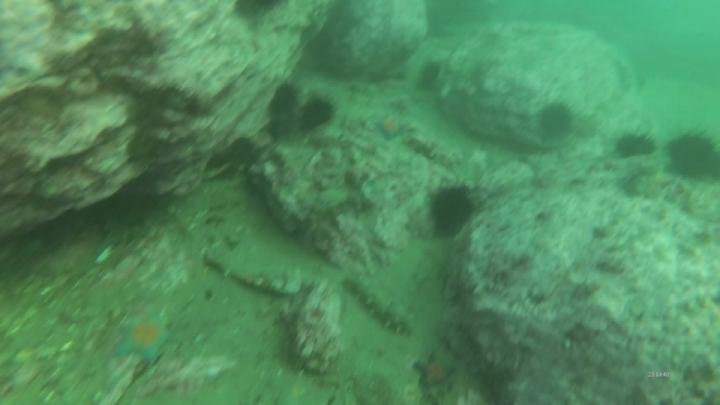echinus: (425, 180, 482, 241), (667, 125, 720, 182), (534, 98, 577, 140), (613, 125, 660, 160), (301, 91, 341, 128), (271, 80, 303, 117)
holothurian: (348, 272, 415, 335)
starfish: (113, 313, 176, 367), (414, 351, 461, 393), (373, 110, 409, 145)
